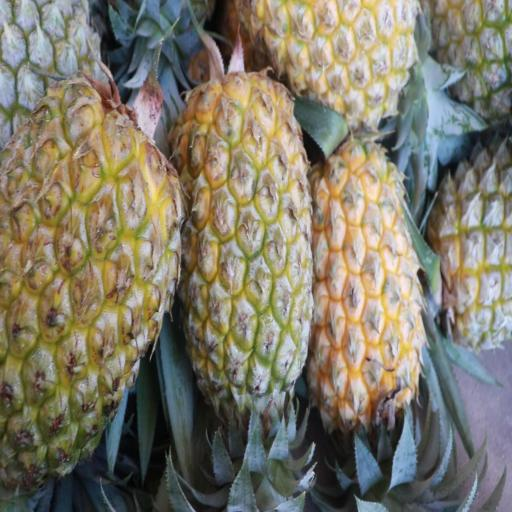------------------------------: (427, 143, 512, 351)
Pineapple - v8 v1: (0, 107, 177, 485), (179, 78, 312, 395), (311, 134, 421, 432), (250, 0, 423, 125)
